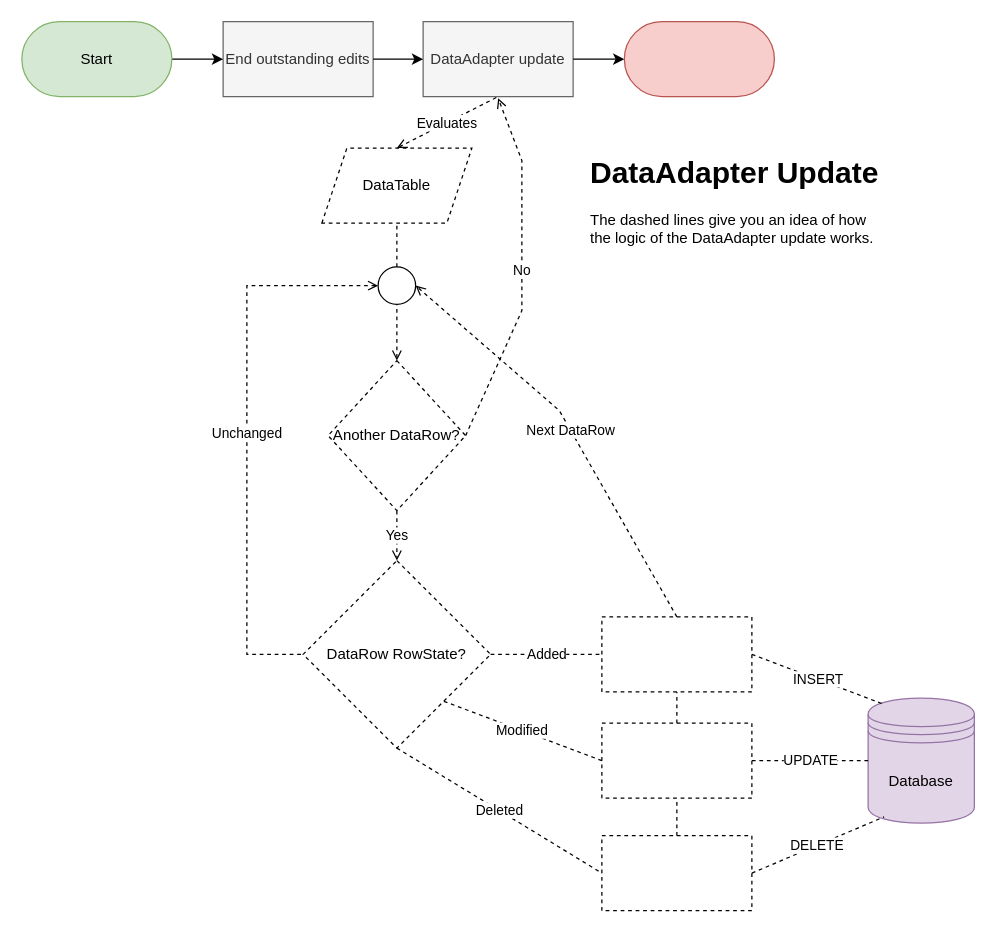
This 996x934 diagram has some shape labels left out. Here are the shapes that lost their labels. From the top down, the centre of each, then its label:
the point at 698,58: End
the point at 676,654: InsertCommand
the point at 676,760: UpdateCommand
the point at 676,872: DeleteCommand
